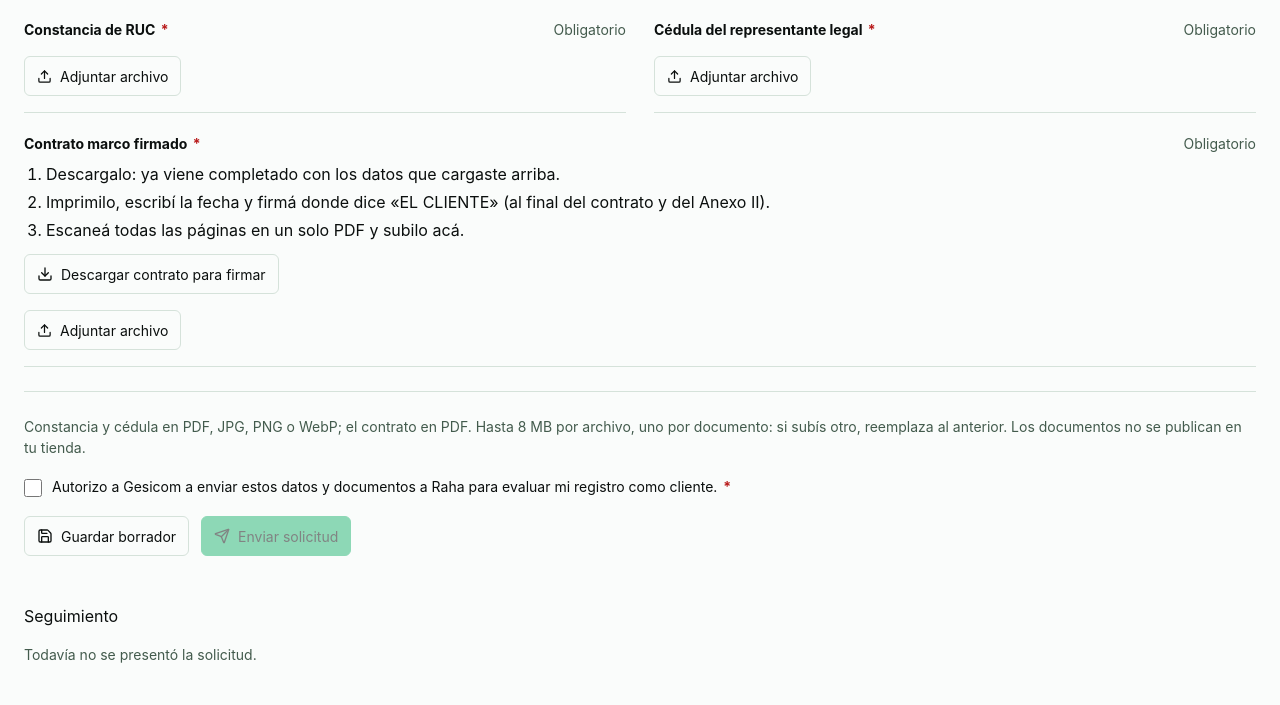
it: Raha application › prefills known store data and requires consent before submitting
(page scrolled)
Expected: the button "Enviar solicitud" is disabled, [201,516,351,556]
Click the checkbox.
click(33, 488)  # box [24,479,42,497]
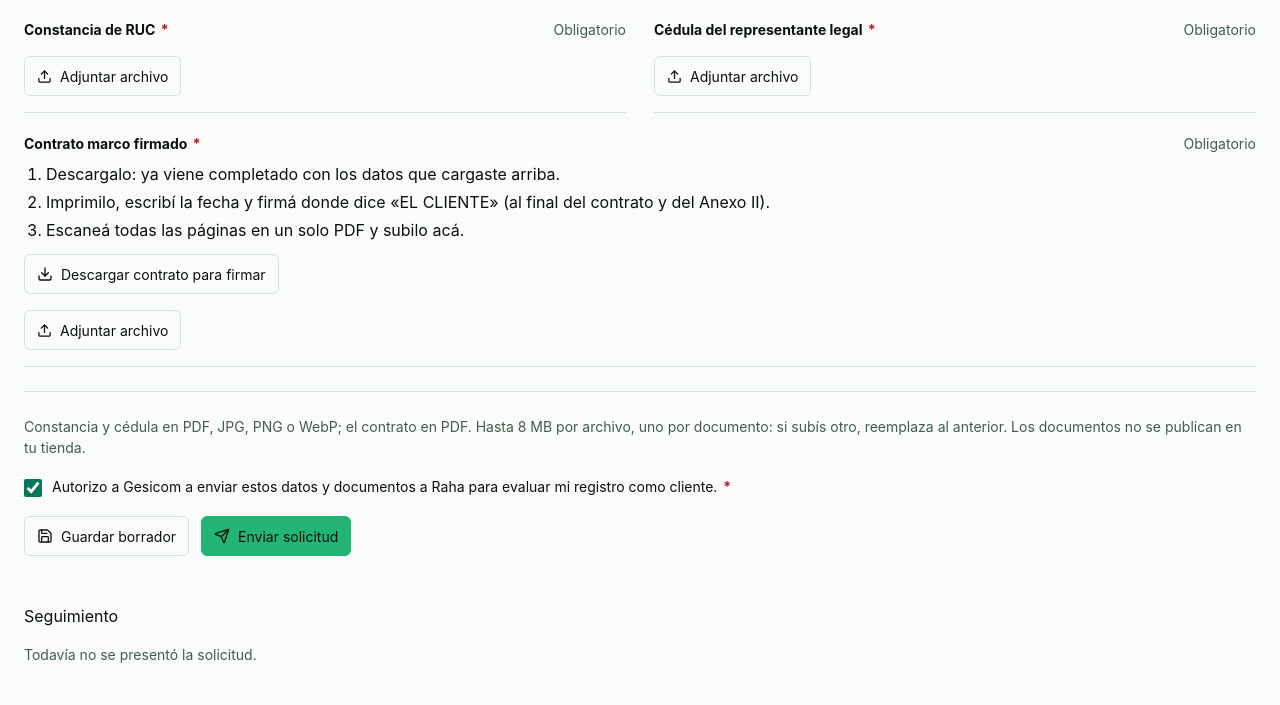
Now the button "Enviar solicitud" is enabled, box [201,516,351,556]
